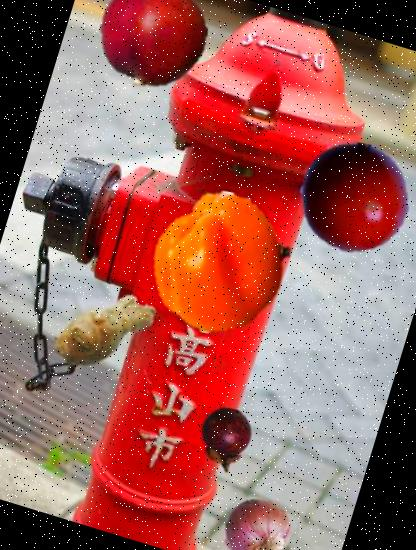Ginger: (35, 261, 176, 401)
Mangostan: (184, 399, 266, 480)
Nectarine: (86, 0, 221, 104)
Onion: (212, 489, 304, 550)
Pepper: (131, 174, 311, 354)
Tamarillo: (286, 129, 416, 266)
